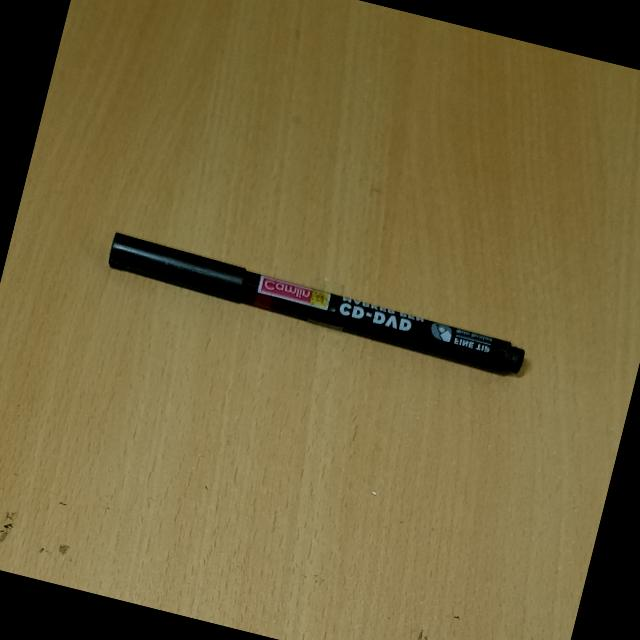marker: (89, 206, 536, 397)
